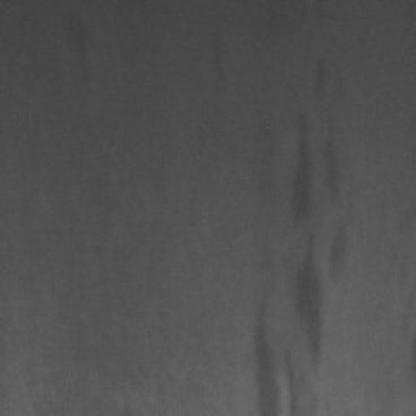inclusion: (256, 46, 356, 410)
